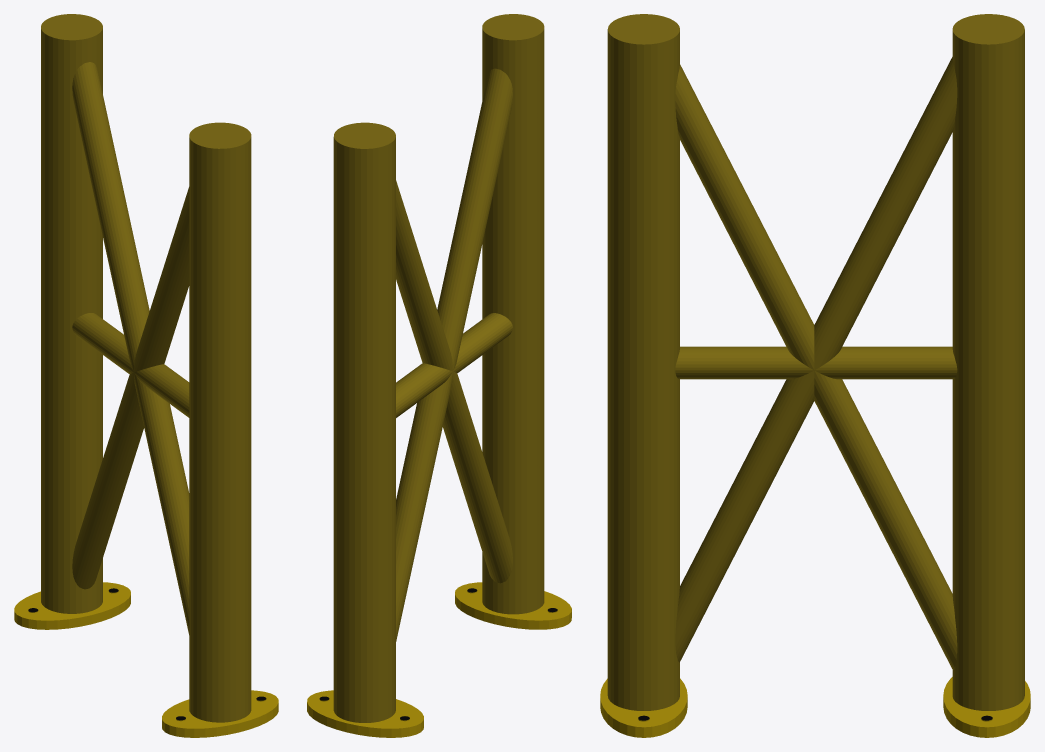
File: ConveyorSupportLong.fbx
The picture shows the model from 3 angles, left to right: view 1: azimuth 30°, elevation 25°; view 2: azimuth 150°, elevation 25°; view 3: azimuth 270°, elevation 25°; orthographic projection. The views are drawn at different scales.
Parts seen in each view (by area): view 1: Cylinder.002; view 2: Cylinder.002; view 3: Cylinder.002.
Boxes of the visible parts, x1,y1,x2,y2 form: Cylinder.002: (14,14,278,737); Cylinder.002: (307,14,571,737); Cylinder.002: (600,14,1030,737).
Bounding box in the file's own units: 200 × 1004 × 579.
